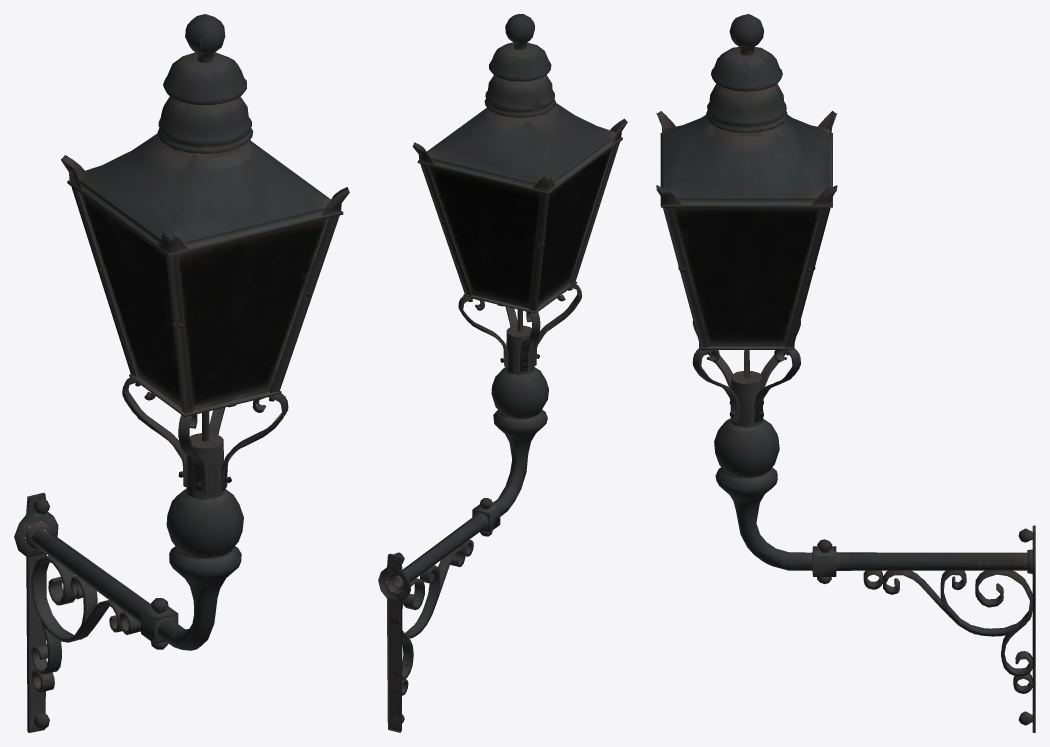
File: wall_lamp.glb
3 renders of one model, left to right at view 1: azimuth 30°, elevation 25°; view 2: azimuth 150°, elevation 25°; view 3: azimuth 270°, elevation 25°, orthographic. The views are drawn at different scales.
Visible parts, largest first — view 1: wall_lamp; view 2: wall_lamp; view 3: wall_lamp.
Boxes of the visible parts, bbox=[...] form: wall_lamp: bbox=[14, 14, 349, 732]; wall_lamp: bbox=[378, 14, 627, 732]; wall_lamp: bbox=[656, 14, 1035, 732].
Bounding box in the file's own units: 0.3848 × 1.67 × 0.806.
2 materials, 2 textured.
